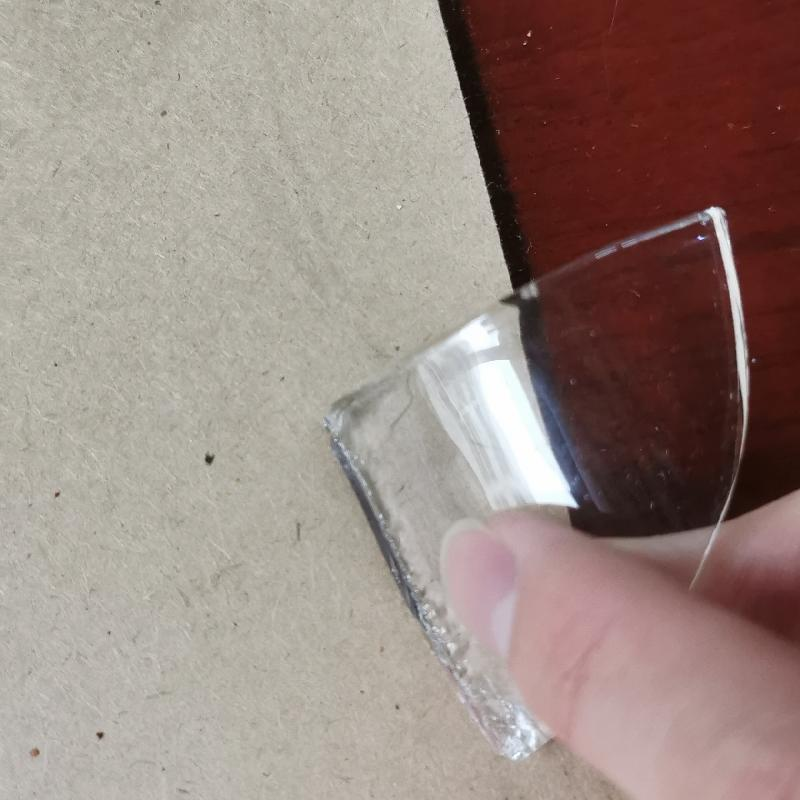glass: (307, 208, 760, 771)
